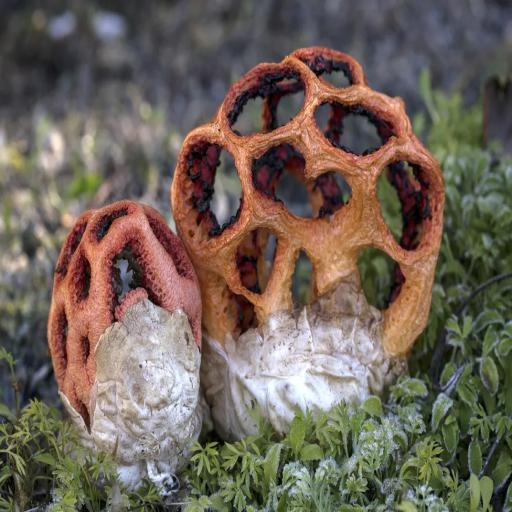mushroom: (146, 29, 485, 450), (48, 200, 203, 484)
